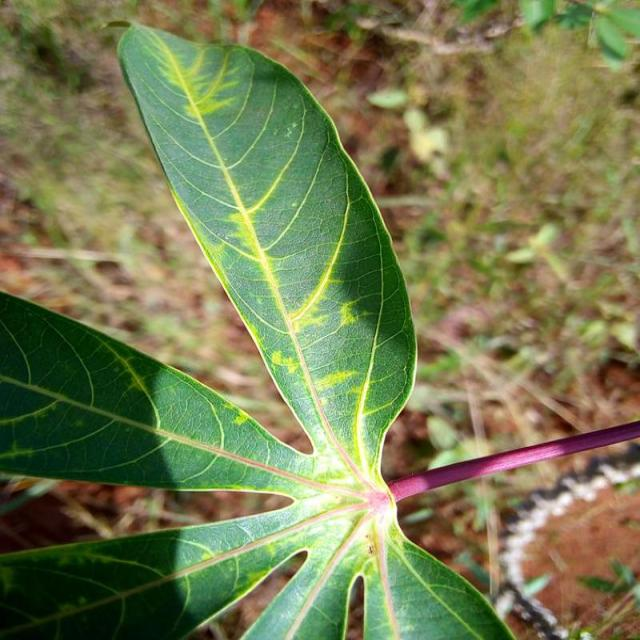cassava leaf: (1, 19, 636, 638), (114, 19, 420, 486)
